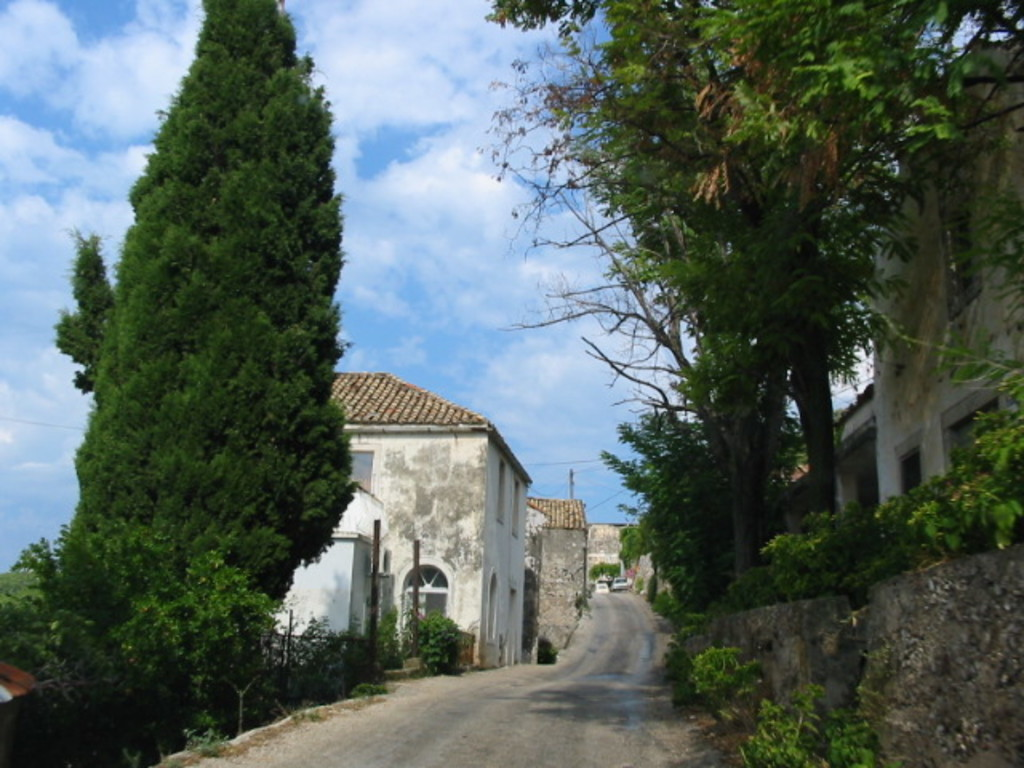Tree: (465, 0, 1022, 608), (27, 11, 364, 742)
